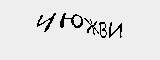В: (98, 21, 108, 42)
Ж: (84, 18, 99, 37)
И: (108, 22, 126, 39)
Ч: (33, 11, 57, 34)
Ю: (58, 11, 83, 34)
